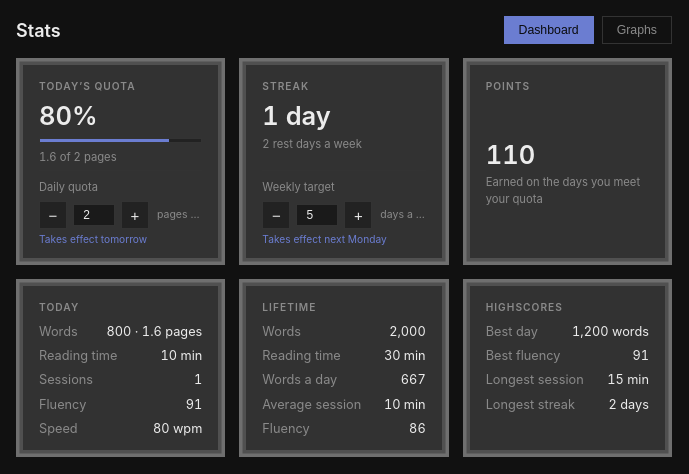
Test case: Stats screen — Graphs tab, timeframe gating › says so plainly when no timeframe has anything to show
The width and height of the screenshot is (689, 474).
What coordinates should you click on to do the following:
click the button "Graphs"
I would click on:
 (637, 30)
Its box is [602,16,672,44].
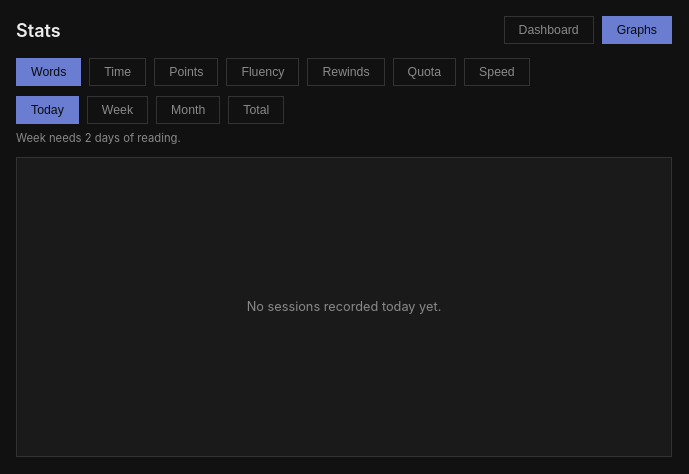
What coordinates should you click on to do the following:
click the button "Points"
I would click on:
 (186, 72)
Its box is [154,58,218,86].
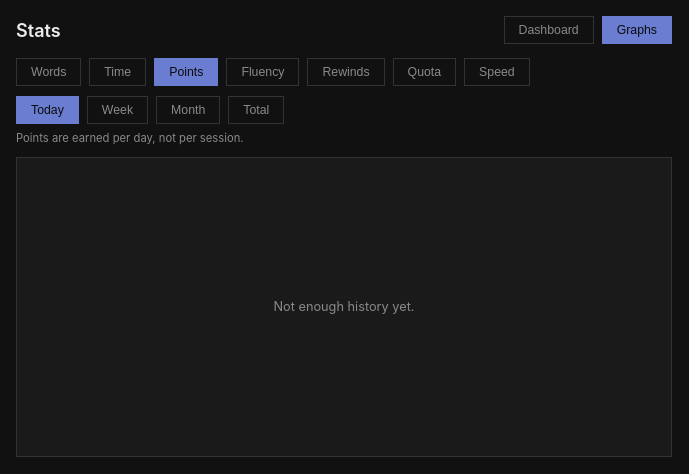
Now the message reads "Not enough history yet.", box [273,299,414,314]
